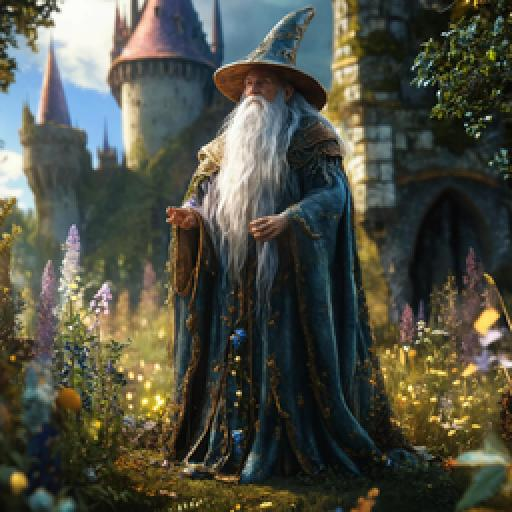wizards: (163, 6, 381, 474)
